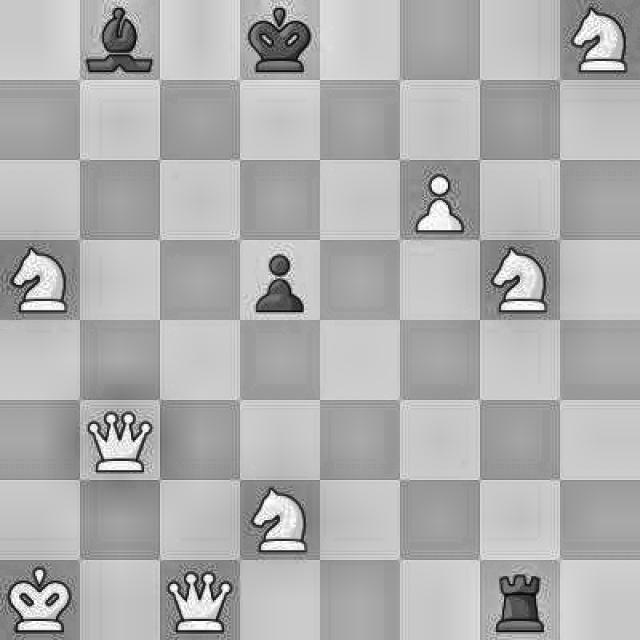black bishop: (83, 1, 157, 80)
black king: (241, 1, 315, 76)
black pawn: (247, 246, 309, 316)
black rook: (485, 564, 550, 636)
white king: (3, 563, 78, 638)
white pawn: (404, 163, 475, 237)
white queen: (162, 563, 238, 636), (89, 400, 155, 478)
whiteknight: (482, 241, 560, 320), (244, 484, 318, 557), (4, 243, 75, 316), (565, 5, 634, 79)
